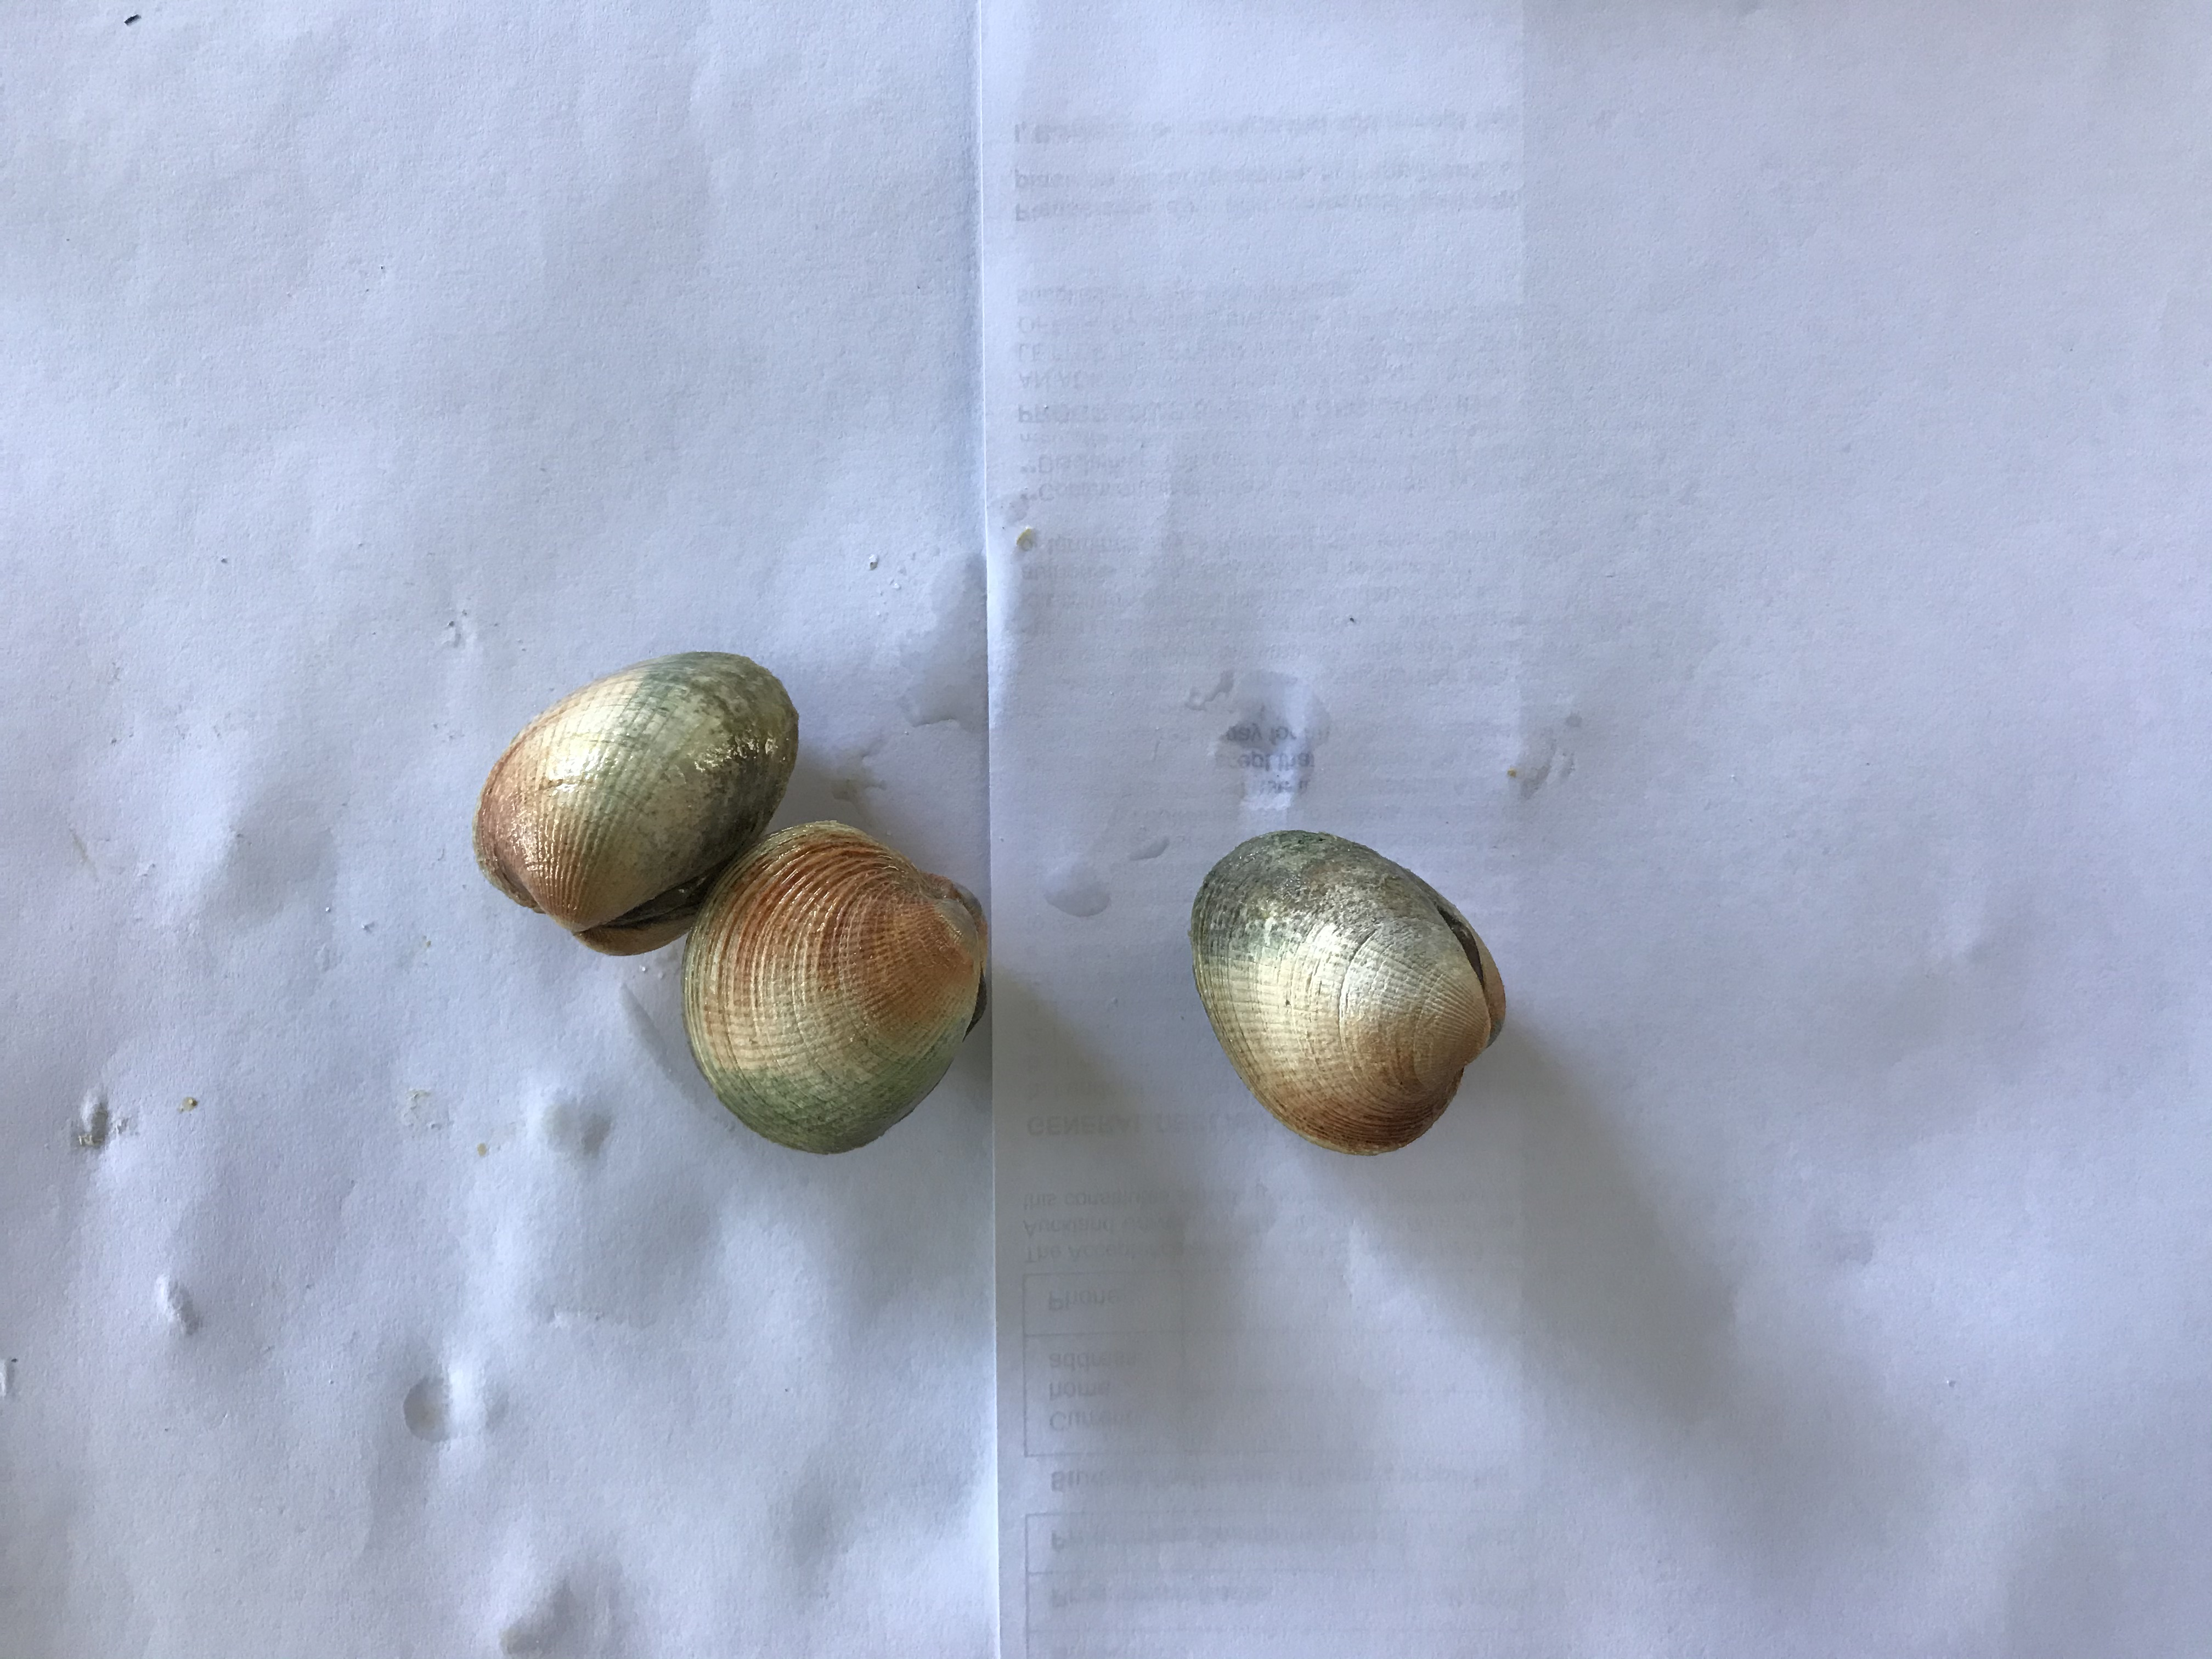cockle: (1181, 821, 1508, 1159), (679, 816, 993, 1164), (463, 647, 805, 951)
